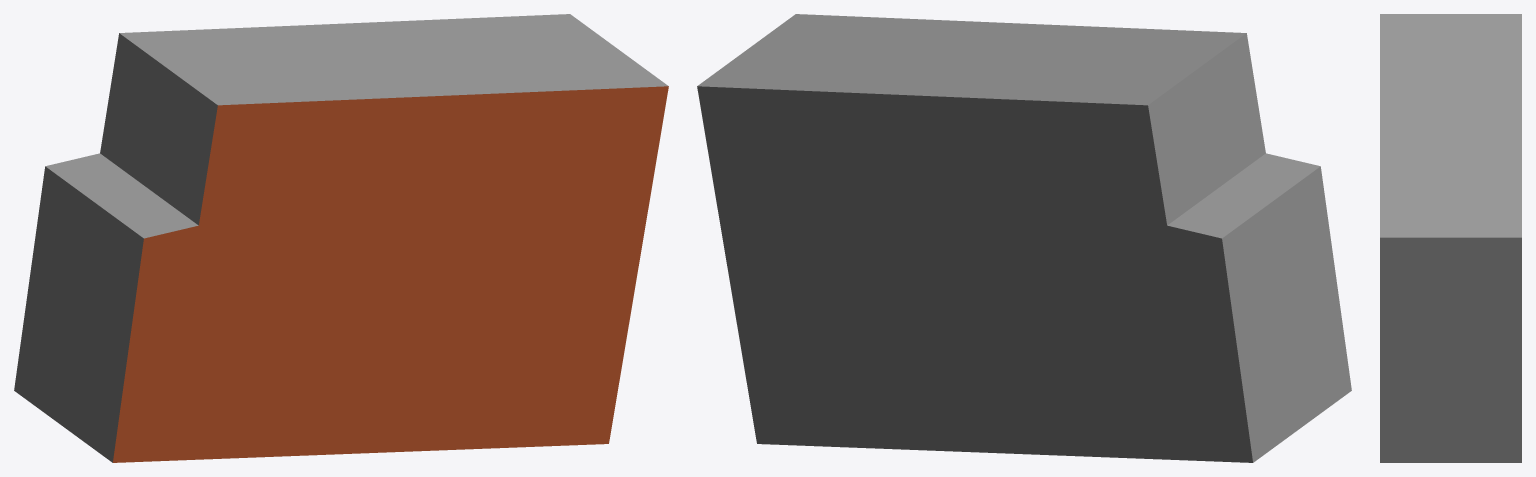
Rendered from construction_3058_assumed_A_Casa_h6m.obj.
The picture shows the model from 3 angles, left to right: view 1: azimuth 30°, elevation 25°; view 2: azimuth 150°, elevation 25°; view 3: azimuth 270°, elevation 25°; orthographic projection. The views are drawn at different scales.
Parts seen in each view (by area): view 1: construction_3058_assumed_A_Casa; view 2: construction_3058_assumed_A_Casa; view 3: construction_3058_assumed_A_Casa.
Part boxes in pixels (box(x1,y1,x2,y2)): construction_3058_assumed_A_Casa: box(14, 14, 668, 462); construction_3058_assumed_A_Casa: box(697, 14, 1351, 462); construction_3058_assumed_A_Casa: box(1380, 14, 1521, 462).
Size of the model in its own units: 19.5 by 14.55 by 6.
